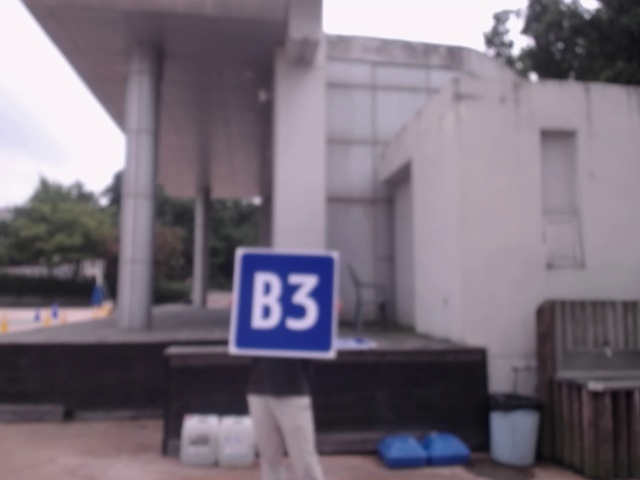delivery_b3: (234, 249, 337, 355)
